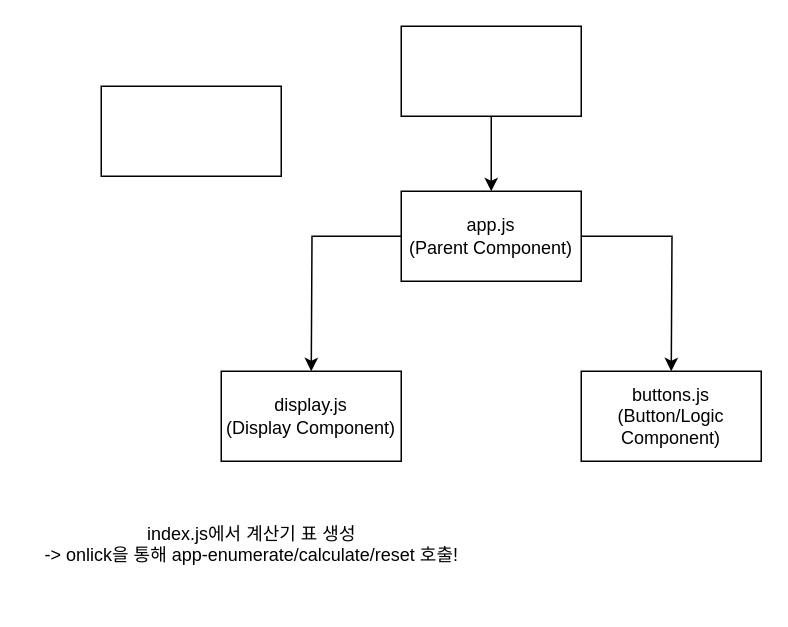
Some shapes in this 788 by 627 pixel diagram are drawn without their labels. The centre of each missing label's shape, as x and y in pixels:
component.js: the point at 190,130
index.js (Root component /EntryPoint): the point at 490,70
